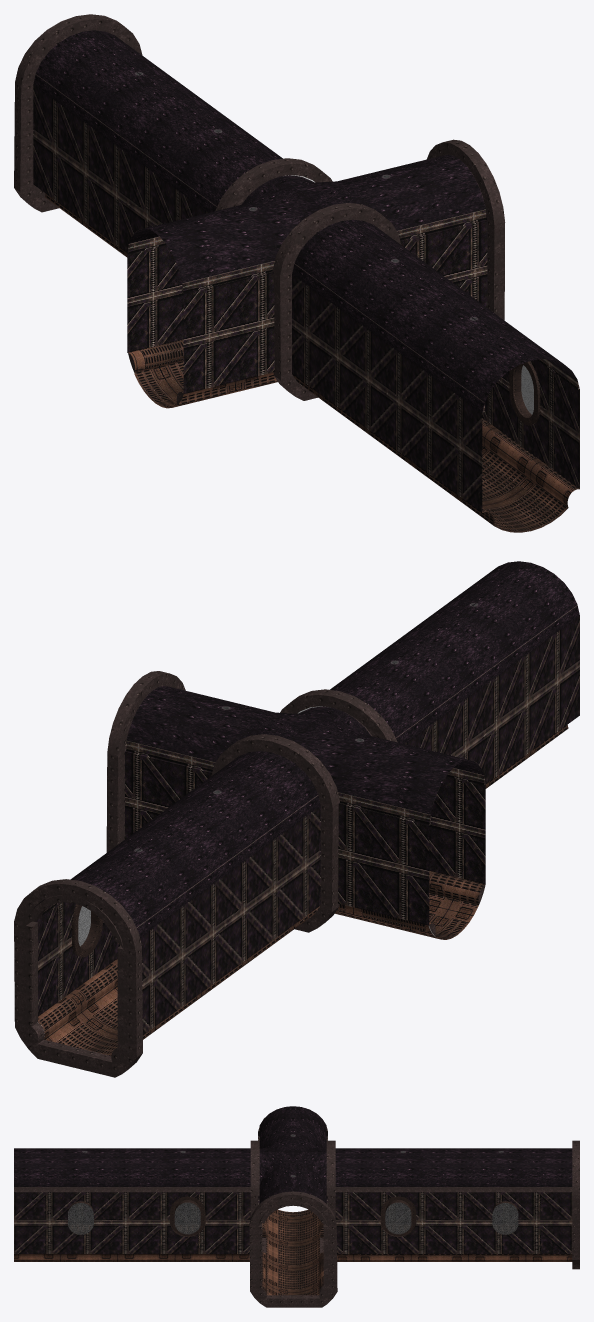
File: pasillo 4 largo.fbx
3 views of the same model, one above another, from view 1: azimuth 30°, elevation 25°; view 2: azimuth 150°, elevation 25°; view 3: azimuth 270°, elevation 25° (orthographic). The views are drawn at different scales.
Visible parts, largest first — view 1: Model; view 2: Model; view 3: Model.
Boxes of the visible parts, x1,y1,x2,y2 form: Model: [14, 14, 579, 532]; Model: [14, 561, 579, 1077]; Model: [14, 1106, 579, 1307].
Bounding box in the file's own units: 5.54 × 3.07 × 13.91.
